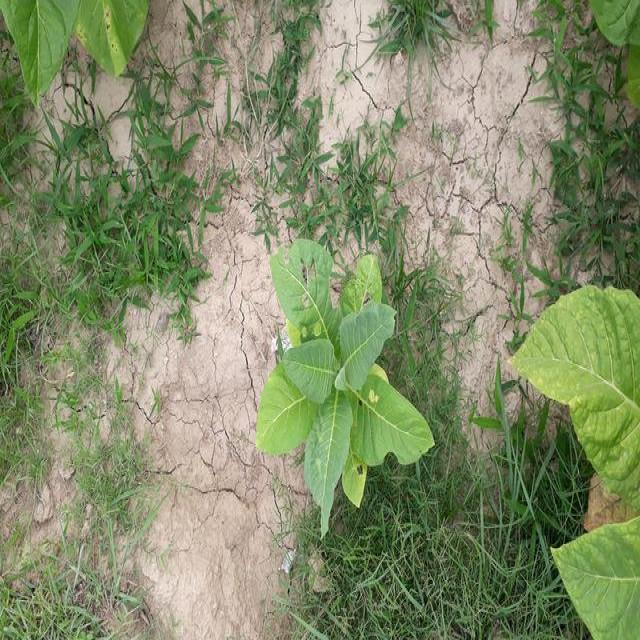crop: (261, 250, 427, 508), (521, 297, 639, 640), (0, 0, 161, 86)
